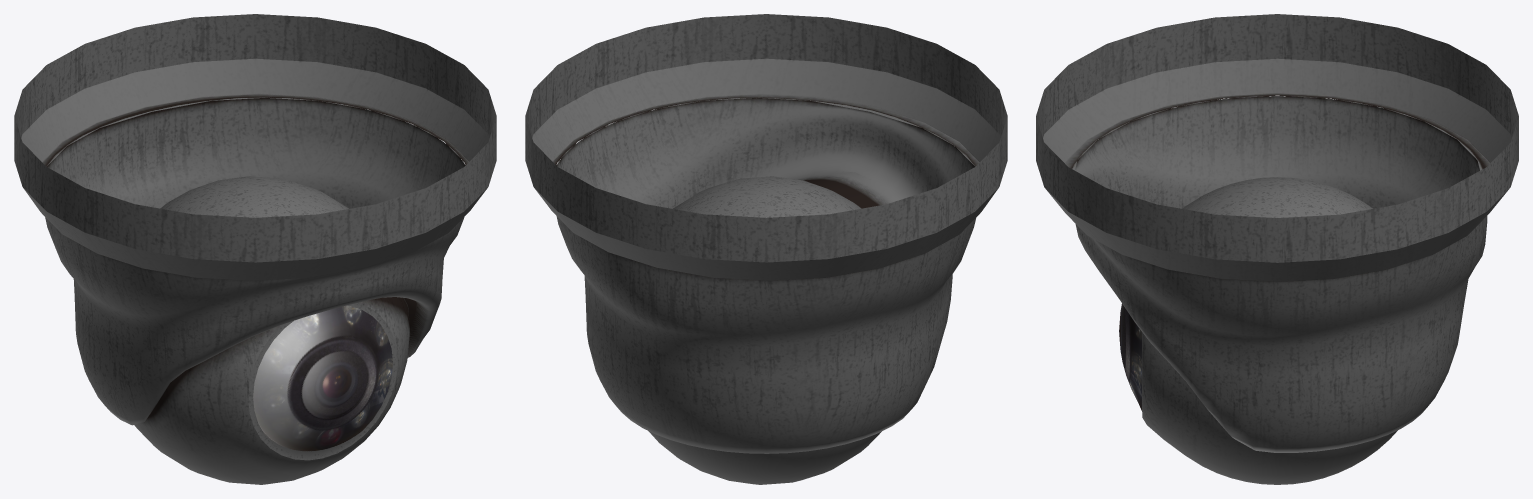
3 renders of one model, left to right at view 1: azimuth 30°, elevation 25°; view 2: azimuth 150°, elevation 25°; view 3: azimuth 270°, elevation 25°, orthographic.
Parts seen in each view (by area): view 1: top, body, eye; view 2: body, top, eye; view 3: body, top, eye.
Boxes of the visible parts, x1,y1,x2,y2 form: top: (14, 14, 496, 280); body: (45, 98, 465, 425); eye: (134, 176, 409, 484); body: (556, 98, 975, 453); top: (525, 14, 1007, 280); eye: (648, 176, 881, 484); body: (1075, 96, 1487, 452); top: (1036, 14, 1518, 281); eye: (1119, 177, 1397, 484).
Size of the model in its own units: 0.2441 by 0.1978 by 0.2441.
Materials: 1 (1 with a texture image).
